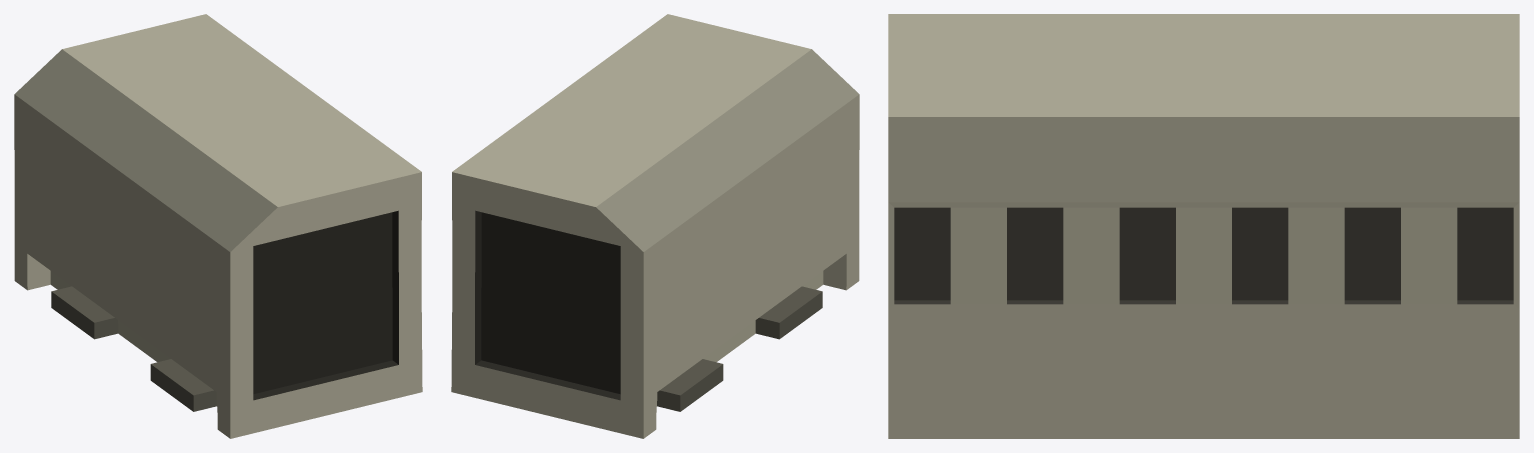
File: ComputerMainDesk.glb
The picture shows the model from 3 angles, left to right: view 1: azimuth 30°, elevation 25°; view 2: azimuth 150°, elevation 25°; view 3: azimuth 270°, elevation 25°; orthographic projection. The views are drawn at different scales.
Visible parts, largest first — view 1: Cube; view 2: Cube; view 3: Cube.
Boxes of the visible parts, x1=… form: Cube: x1=14, y1=14, x2=422, y2=438; Cube: x1=451, y1=14, x2=859, y2=438; Cube: x1=888, y1=14, x2=1519, y2=438.
Bounding box in the file's own units: 0.7867 × 0.8613 × 1.53.
